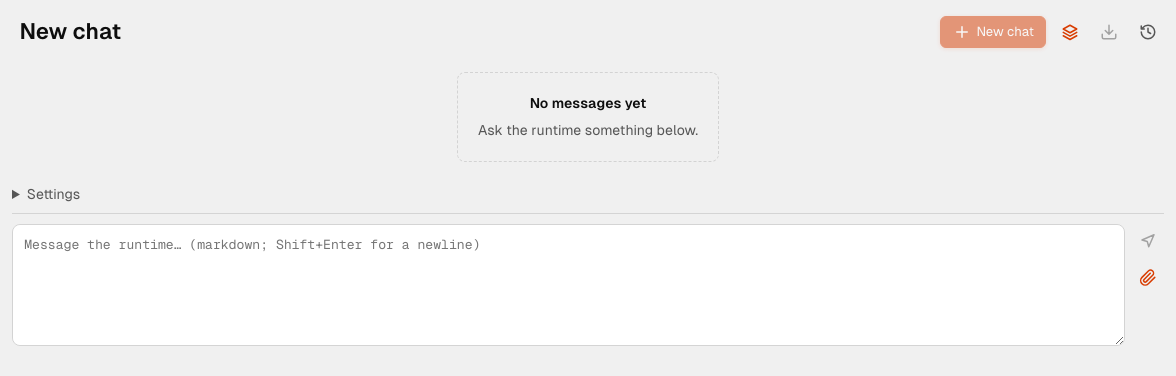
Scenario: New Chat read-only RAG surface (PR-A) › excludes the Tools / Context / Dataset categories from the attach menu (read-only)
Click the button with test id "attach-btn".
click(1148, 277)  # box [1133,262,1164,293]
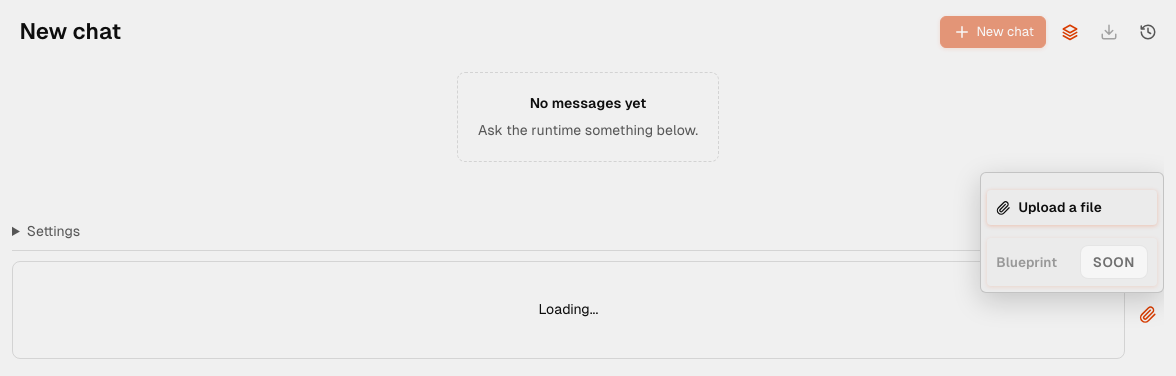
Check: the menu with test id "attach-menu" is shown, box [980,172,1164,292]
Check: the menu item with test id "attach-upload" is shown, box [987,190,1157,225]
Check: the menu item with test id "attach-blueprint" is disabled, box [987,238,1157,286]
